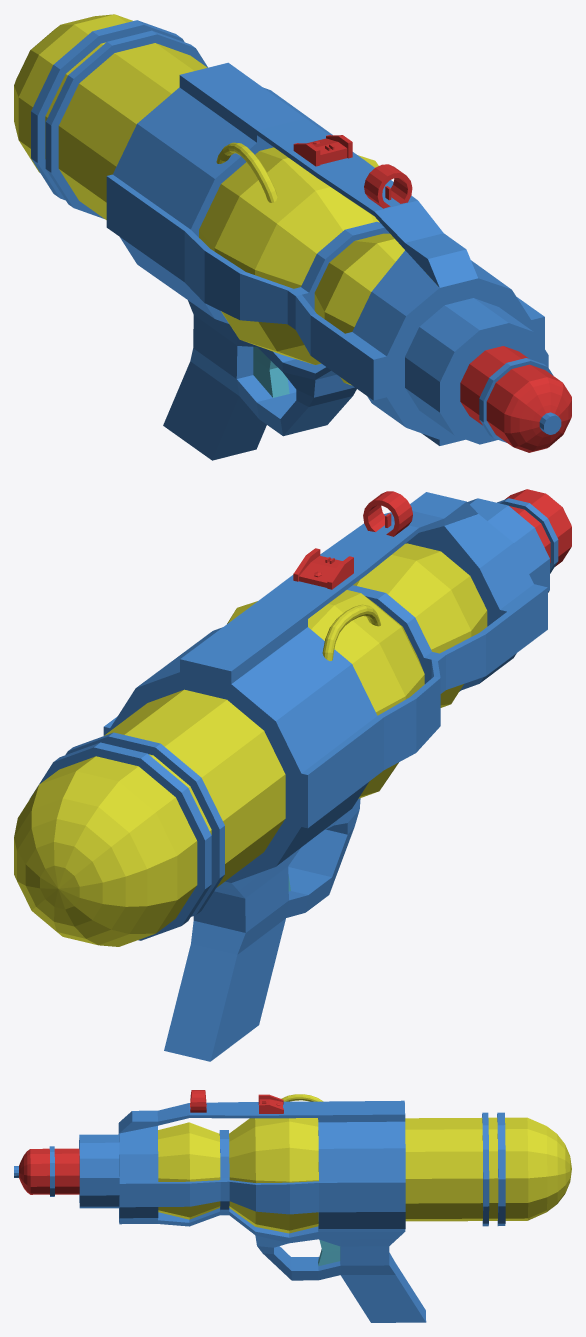
File: lowpoly_watergun.glb
The picture shows the model from 3 angles, top to bottom: view 1: azimuth 30°, elevation 25°; view 2: azimuth 150°, elevation 25°; view 3: azimuth 270°, elevation 25°; orthographic projection. The views are drawn at different scales.
Visible parts, largest first — view 1: RG_WG; view 2: RG_WG; view 3: RG_WG.
Part boxes in pixels (x1,y1,x2,y2): RG_WG: [14, 14, 571, 460]; RG_WG: [14, 489, 571, 1061]; RG_WG: [14, 1090, 571, 1322].
Size of the model in its own units: 189 by 344 by 767.
Materials: 4 (4 with a texture image).
